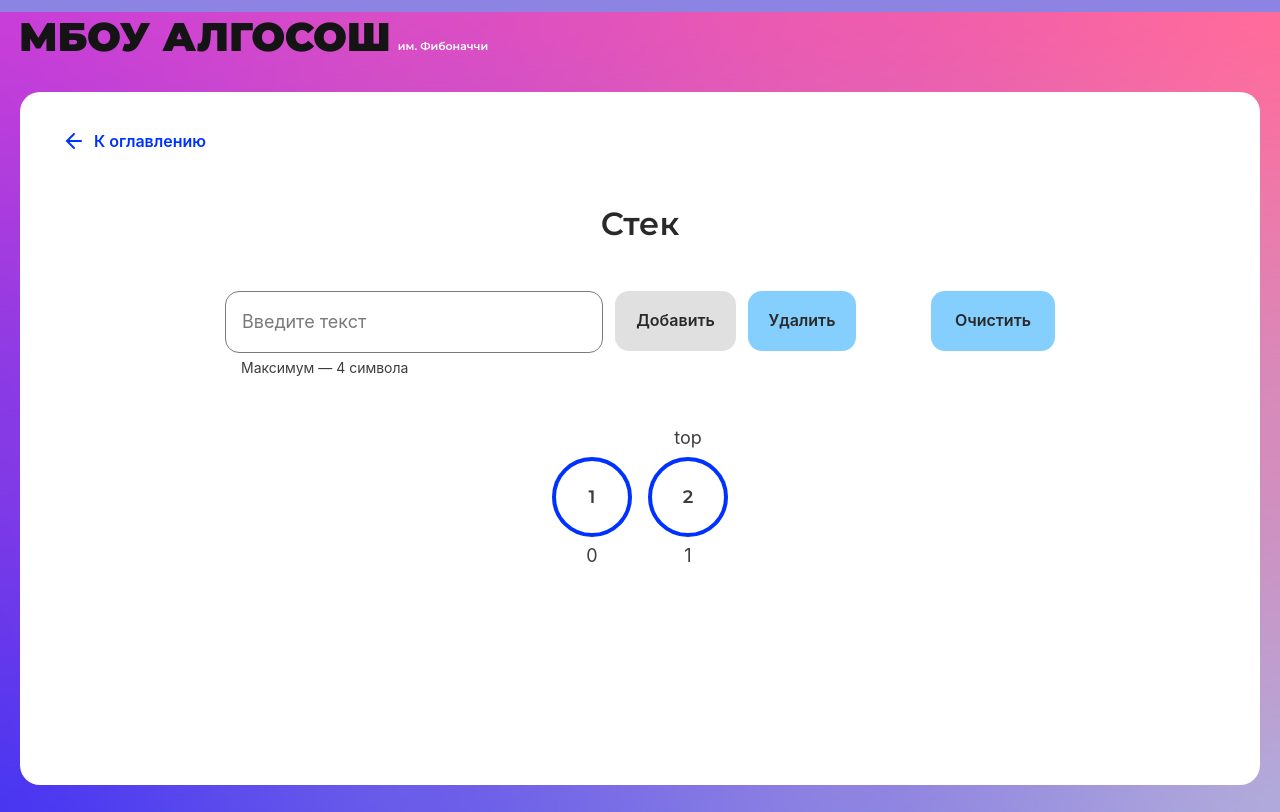
Test: Тестирование корректной работы Стека › Удаление элемента из Стека происходит корректно
The width and height of the screenshot is (1280, 812).
Click the button with test id "deleteBtn": (802, 321) [748,291,856,351]
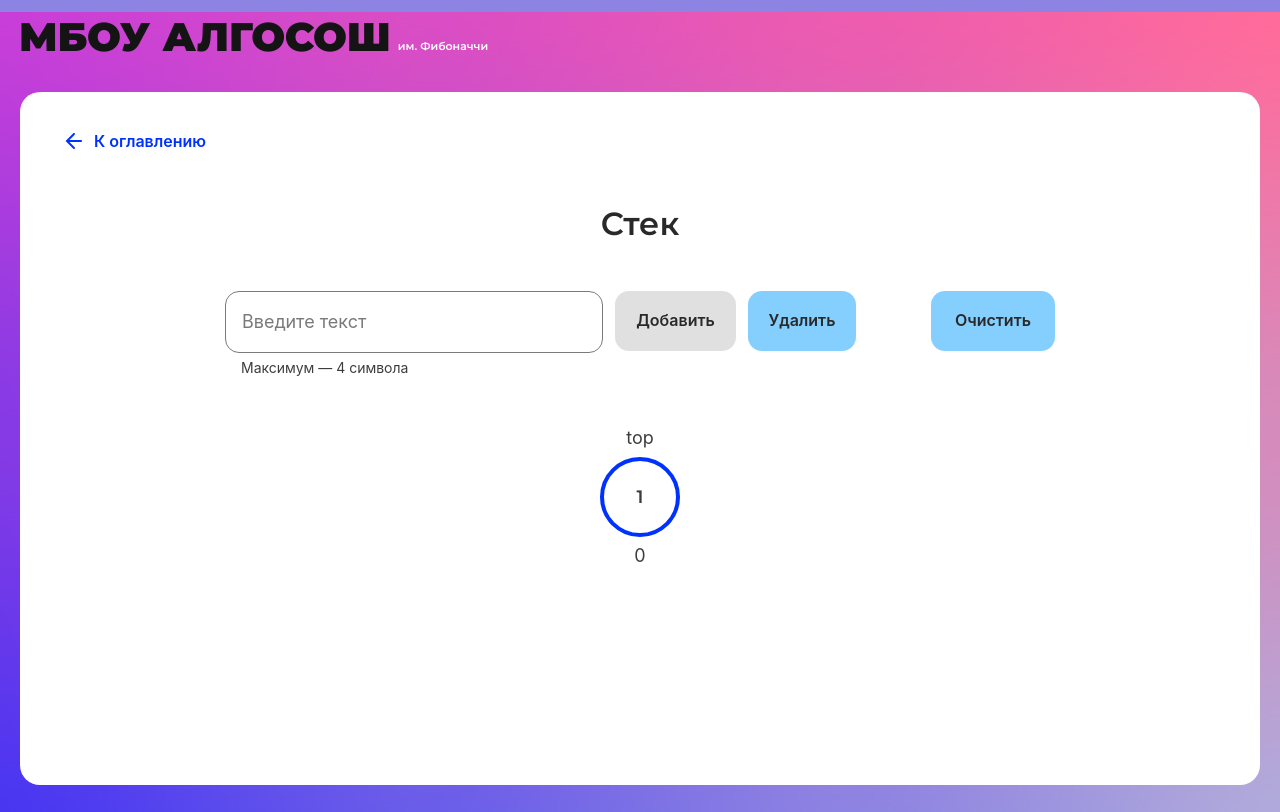
Expected: the text with test id "circle" reads "1", [637,486,644,508]
Expected: the number of elements with test id "circle" is 1, [600,457,680,537]
